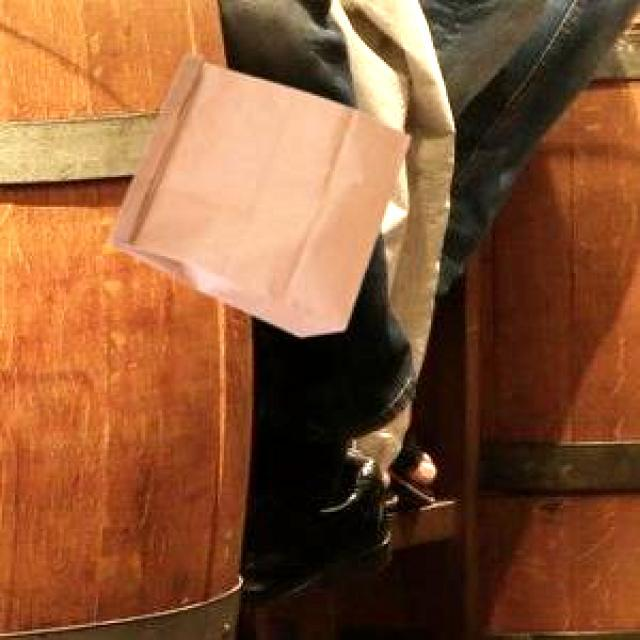Paper_Bag: (106, 52, 407, 334)
